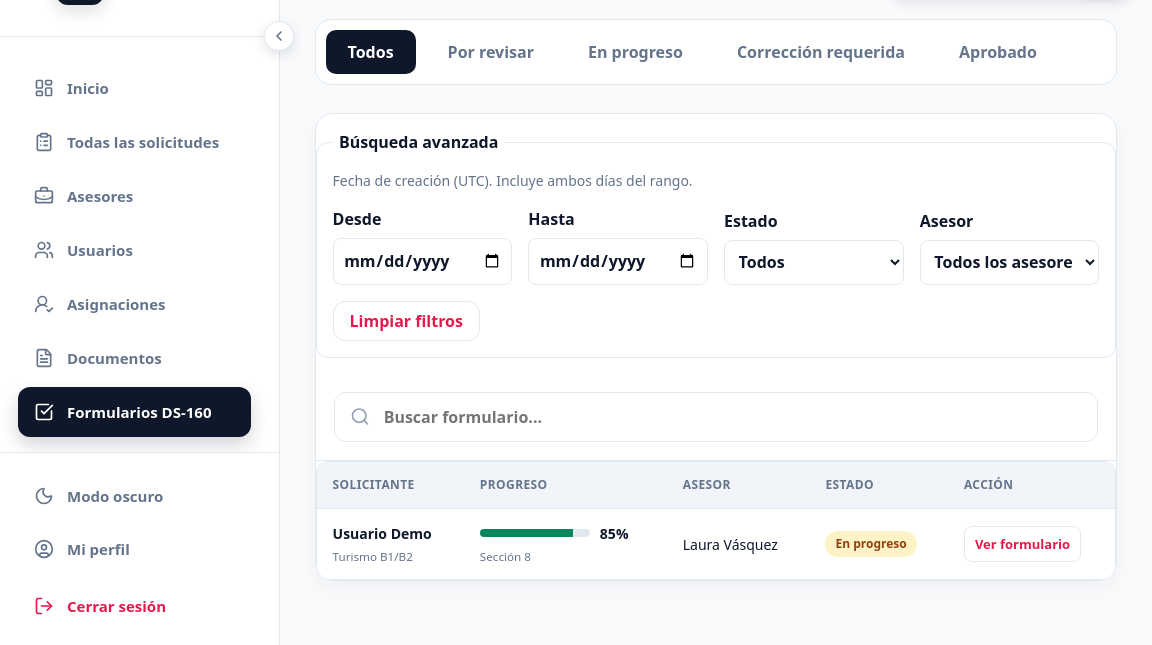
panel de administracion › abre la revisión DS-160 y guarda el estado desde el detalle
This screenshot has width=1152, height=645.
(page scrolled)
Click the button "Ver formulario". click: (1022, 544)
box: [964,526,1081,562]
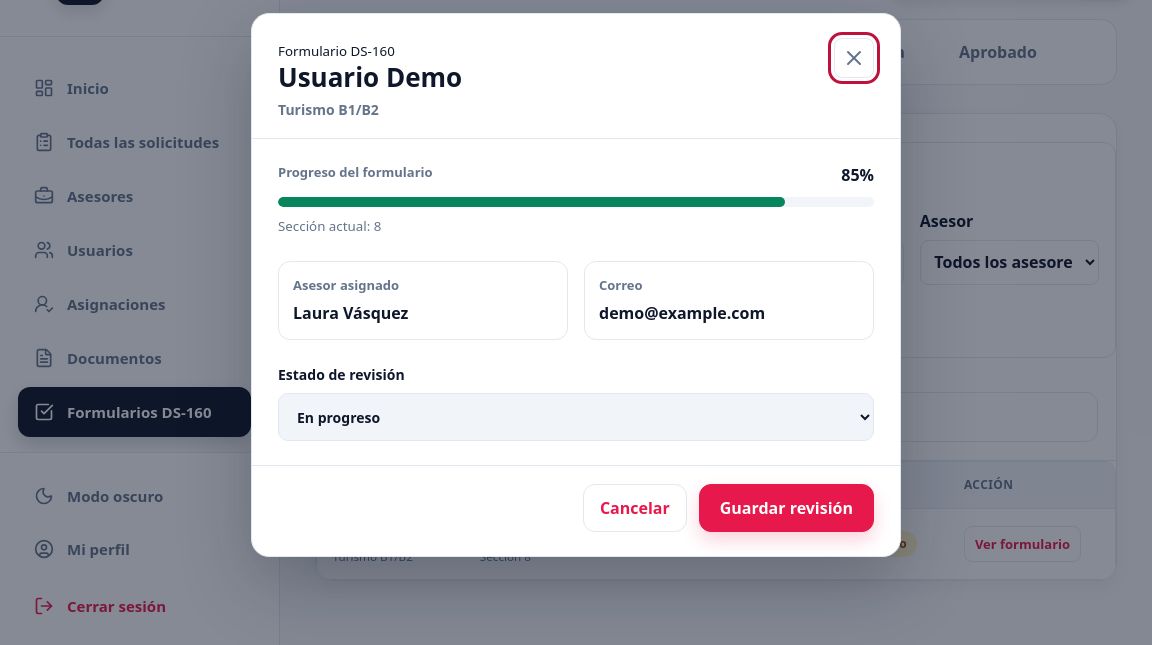
Select "Aprobado" in the dropdown labelled "Estado de revisión". click: (576, 417)
box: [278,393,874,441]
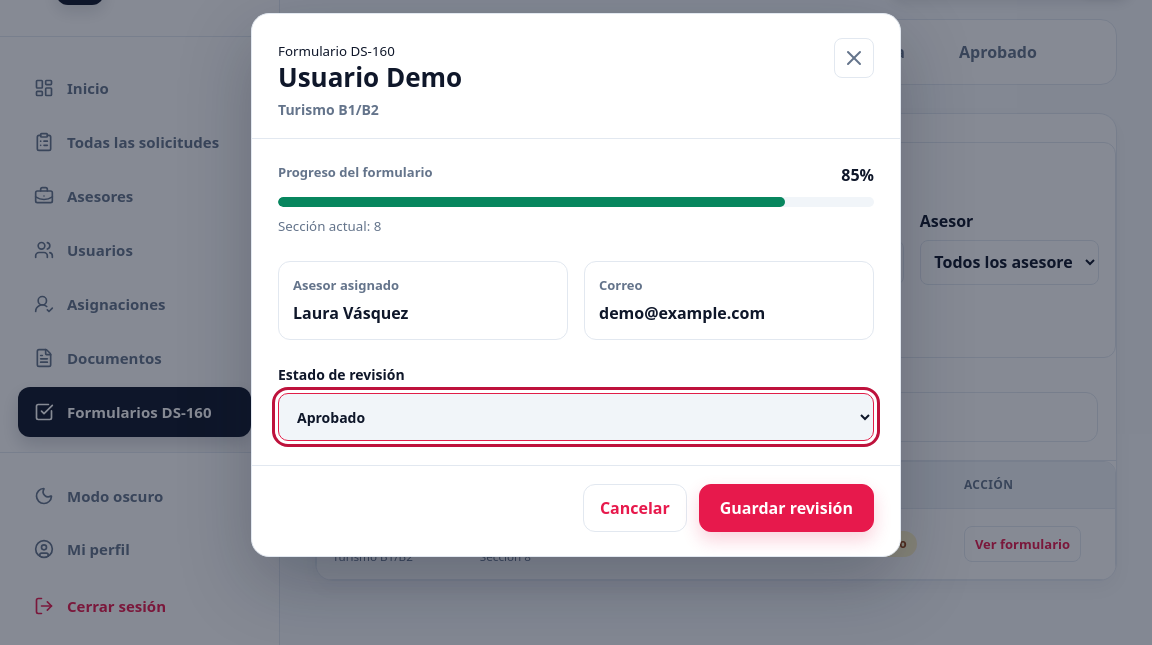
Click the button "Guardar revisión". click: (786, 508)
box: [699,484,874,532]
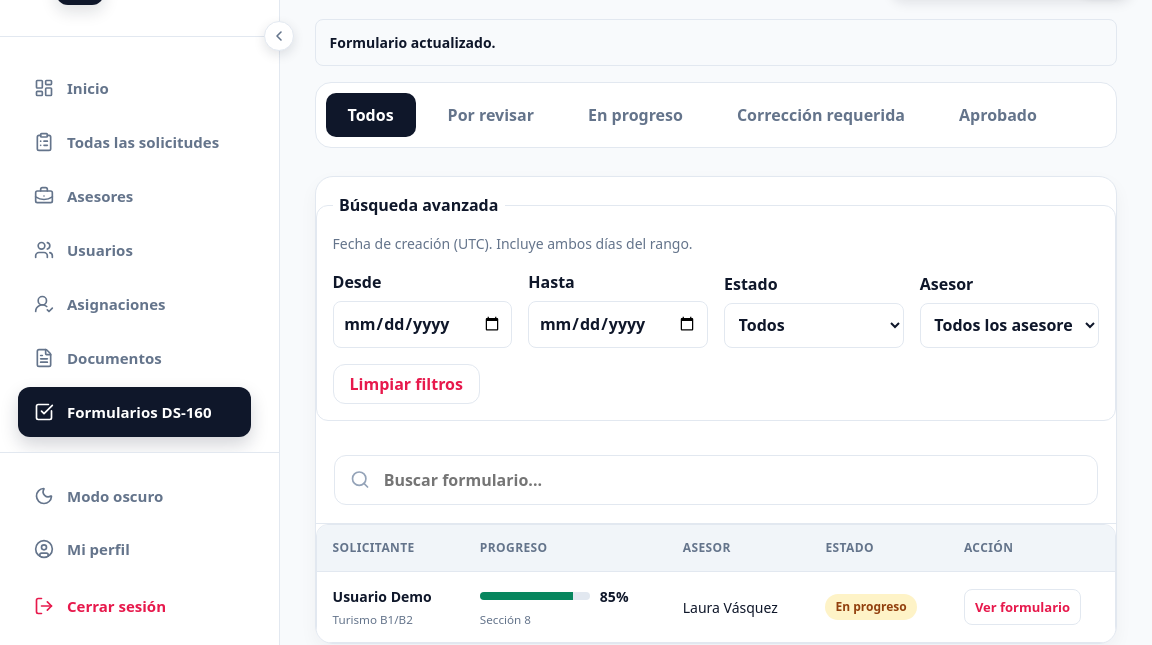
Result: the text "Formulario actualizado." is shown at [314,19,1117,66]
